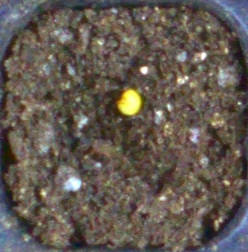pepper seed: (45, 30, 187, 146)
